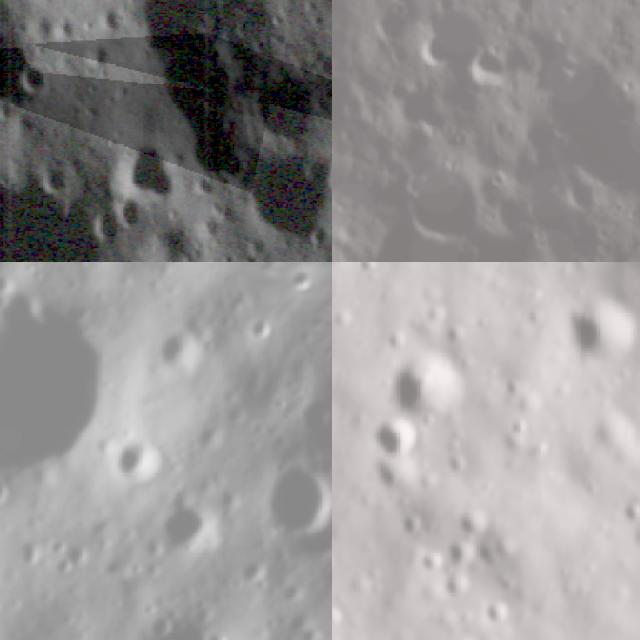crater: (0, 262, 157, 518), (0, 169, 135, 262), (231, 136, 332, 250), (237, 447, 332, 566), (247, 61, 331, 154), (552, 290, 638, 378), (107, 588, 242, 640), (384, 355, 466, 431), (106, 136, 186, 212), (156, 489, 228, 564), (102, 432, 174, 502), (362, 420, 421, 471), (150, 321, 204, 375), (235, 304, 289, 358), (332, 52, 357, 143), (464, 40, 507, 92), (439, 535, 479, 584), (428, 576, 472, 612), (14, 56, 48, 100), (474, 599, 510, 635), (411, 36, 456, 63), (609, 496, 640, 531), (353, 262, 382, 287), (332, 604, 342, 638)
